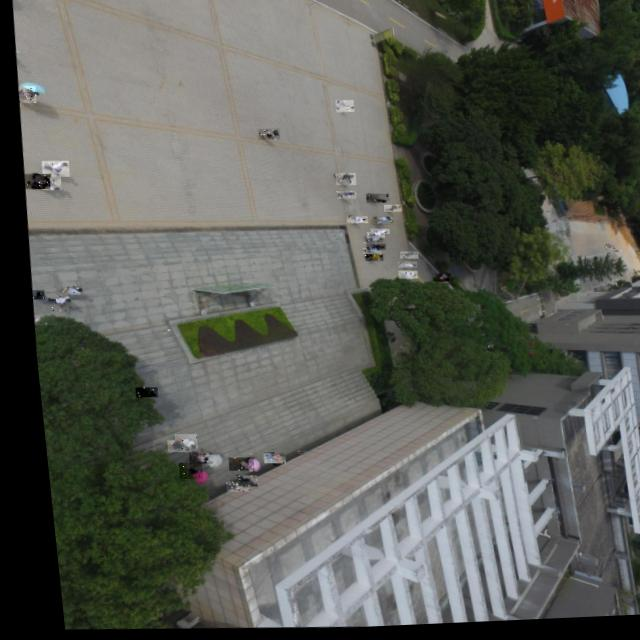Person: (34, 160, 65, 178), (18, 173, 46, 190), (38, 294, 64, 312), (166, 463, 192, 481), (216, 458, 243, 473), (163, 434, 187, 450), (14, 85, 33, 104), (156, 440, 180, 454), (177, 452, 201, 466), (36, 176, 56, 191), (51, 285, 76, 297), (222, 476, 245, 489), (330, 175, 351, 189), (214, 482, 238, 494), (253, 130, 275, 143), (26, 314, 49, 326), (125, 387, 148, 399), (252, 454, 275, 466), (331, 102, 350, 116), (186, 449, 205, 463), (360, 196, 380, 207), (390, 273, 410, 283), (331, 193, 350, 203), (340, 218, 361, 227), (366, 218, 387, 227), (357, 238, 377, 247), (392, 254, 411, 263), (357, 256, 376, 265), (390, 264, 410, 272), (359, 246, 379, 254), (355, 250, 374, 258), (377, 207, 396, 215), (365, 196, 384, 204), (360, 234, 378, 242), (363, 231, 383, 238), (364, 221, 384, 228), (24, 290, 37, 299), (425, 280, 441, 286), (428, 276, 443, 282), (598, 250, 608, 254), (605, 255, 614, 257)
